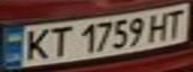1: (75, 20, 100, 54)
5: (112, 16, 133, 50)
7: (93, 18, 115, 52)
9: (124, 15, 151, 47)
H: (145, 9, 175, 43)
K: (18, 26, 54, 62)
T: (42, 24, 75, 57), (160, 7, 190, 39)
